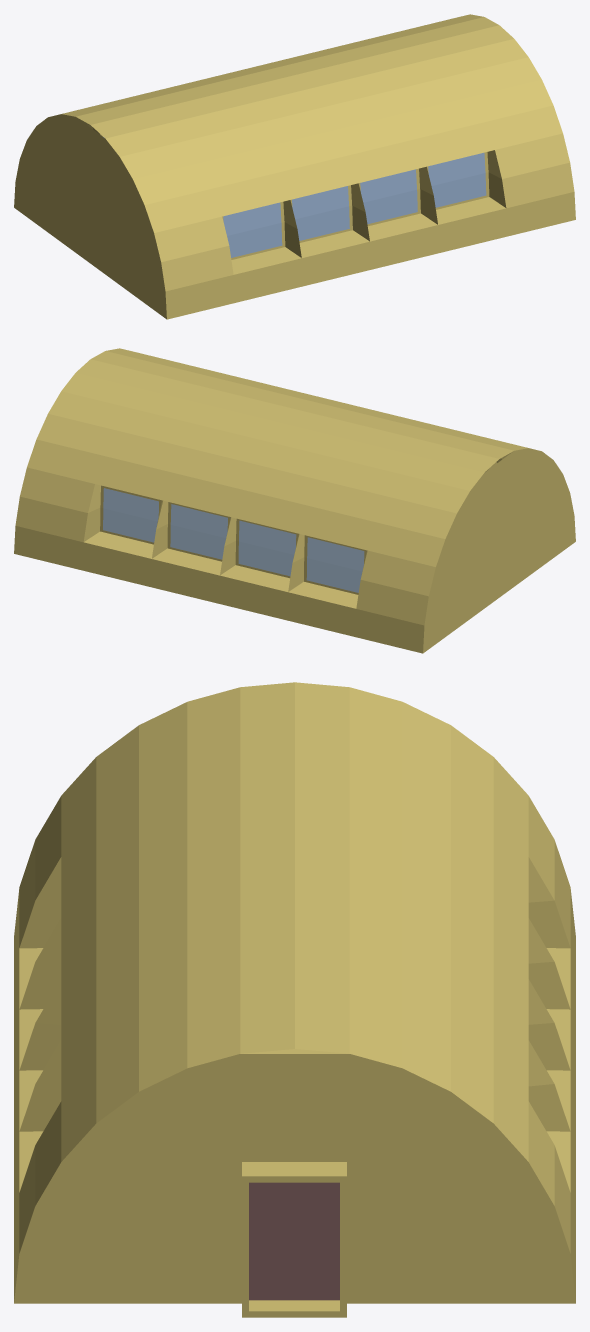
File: Barracks2.fbx
The picture shows the model from 3 angles, top to bottom: view 1: azimuth 30°, elevation 25°; view 2: azimuth 150°, elevation 25°; view 3: azimuth 270°, elevation 25°; orthographic projection. The views are drawn at different scales.
Visible parts, largest first — view 1: Cylinder; view 2: Cylinder; view 3: Cylinder.
Boxes of the visible parts, bbox=[...] form: Cylinder: bbox=[14, 14, 575, 319]; Cylinder: bbox=[14, 348, 575, 653]; Cylinder: bbox=[14, 682, 575, 1317].
Bounding box in the file's own units: 1793 × 559 × 1119.
